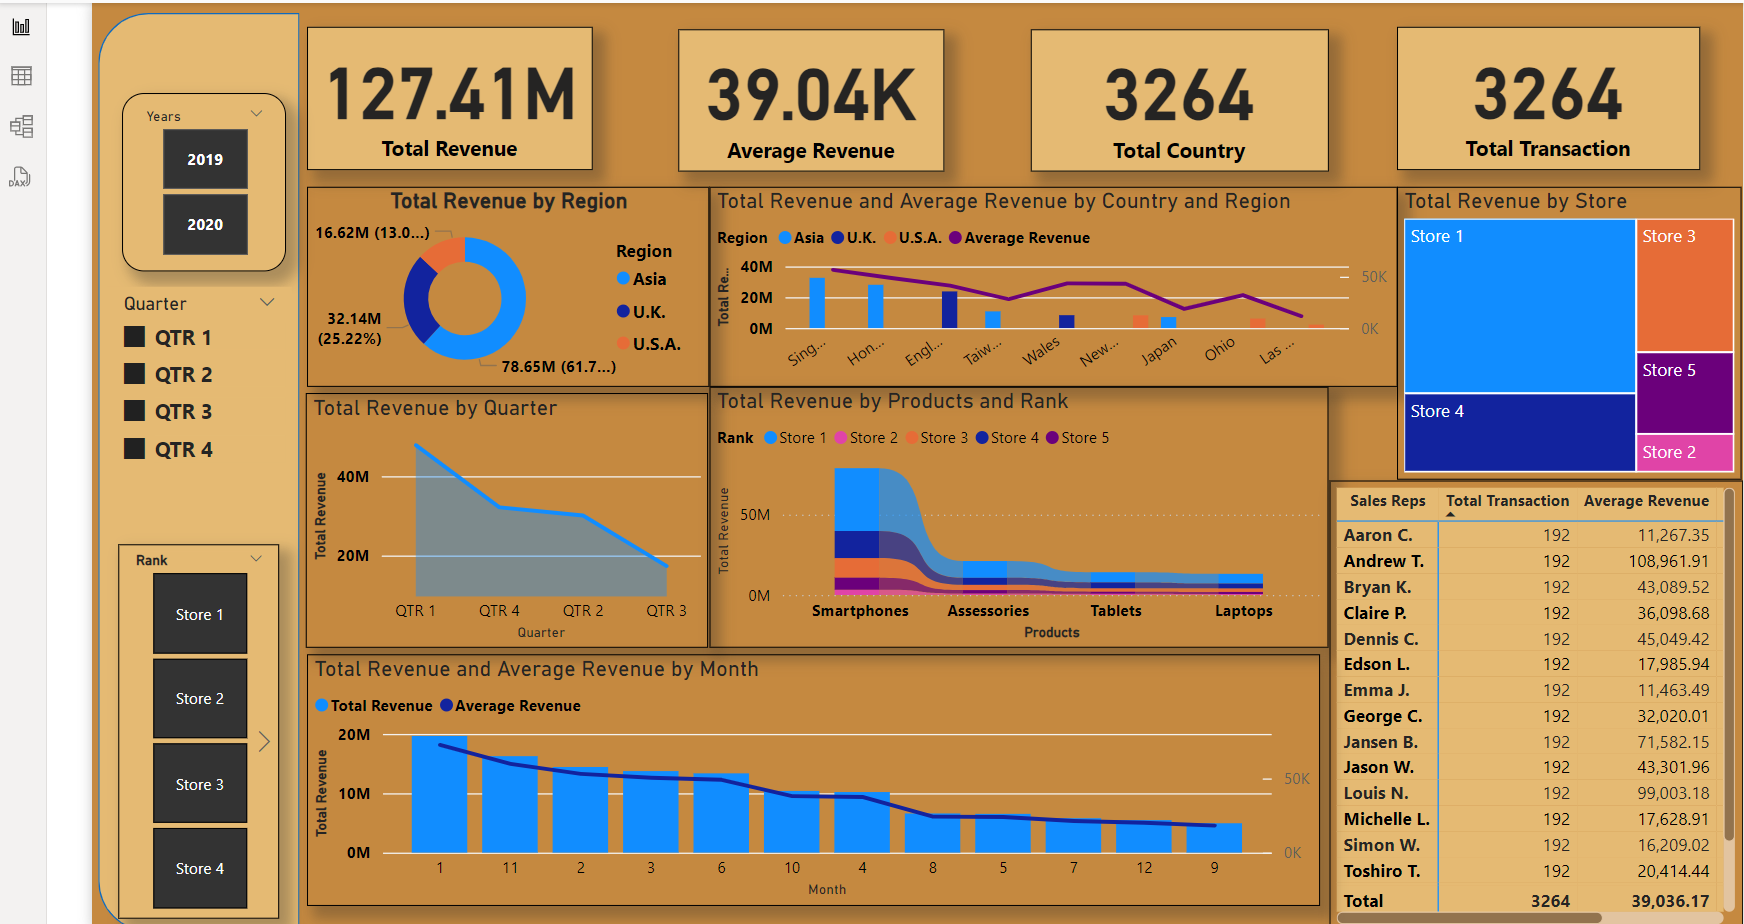

The dashboard page shown, as its layout file describes it:
{"tool":"powerbi","page":{"name":"Page 1","canvas":[1280,720],"ordinal":0},"visuals":[{"type":"shape","box":[4.7,7.7,156.1,712.3],"z":0},{"type":"card","fields":{"Values":["Measures(2).Total Transaction"]},"box":[1012.2,18.9,235.1,111.4],"z":1000},{"type":"card","fields":{"Values":["Measures(2).Total Country"]},"box":[728.1,20,231,110.2],"z":2000},{"type":"card","fields":{"Values":["Measures(2).Total Revenue"]},"box":[166.7,18.9,221.5,111.4],"z":3000},{"type":"card","fields":{"Values":["Measures(2).Average Revenue"]},"box":[455.1,20,206.2,110.2],"z":4000},{"type":"donutChart","fields":{"Y":["Measures(2).Total Revenue"],"Category":["Sheet1.Region"]},"box":[166.7,142.6,311.7,155],"z":5000},{"type":"lineClusteredColumnComboChart","fields":{"Category":["Sheet1.Country"],"Y":["Measures(2).Total Revenue"],"Y2":["Measures(2).Average Revenue"],"Series":["Sheet1.Region"]},"box":[478.4,142.6,533.8,155],"z":6000},{"type":"treemap","title":"Total Revenue by Store","fields":{"Group":["Sheet1.Rank"],"Values":["Measures(2).Total Revenue"]},"box":[1012.2,142.6,267.5,227.4],"z":7000},{"type":"areaChart","fields":{"Y":["Measures(2).Total Revenue"],"Category":["Sheet1.Quarter"]},"box":[166.2,302.3,312.3,198],"z":8000},{"type":"ribbonChart","fields":{"Category":["Sheet1.Products"],"Y":["Measures(2).Total Revenue"],"Series":["Sheet1.Rank"]},"box":[479,297.5,480.2,202.7],"z":9000},{"type":"pivotTable","fields":{"Rows":["Sheet1.Sales Reps"],"Values":["Measures(2).Total Transaction","Measures(2).Average Revenue","Measures(2).Total Revenue"]},"box":[959.2,370,320.5,350],"z":10000},{"type":"lineClusteredColumnComboChart","fields":{"Y":["Measures(2).Total Revenue"],"Y2":["Measures(2).Average Revenue"],"Category":["Sheet1.Month"]},"box":[166.7,504.9,786,195],"z":11000},{"type":"slicer","fields":{"Values":["Sheet1.Years"]},"box":[23,70.1,127.3,138.5],"z":12000},{"type":"slicer","fields":{"Values":["Sheet1.Rank"]},"box":[20.6,419.5,124.9,290.5],"z":13000},{"type":"slicer","fields":{"Values":["Sheet1.Quarter"]},"box":[11.2,220.4,143.2,178.5],"z":14000}]}

Visuals, with their boxes in screenshot pixels (x1, y1, x2, y2):
shape: <box>88,0,292,923</box>
card - Measures(2).Total Transaction: <box>1407,11,1715,157</box>
card - Measures(2).Total Country: <box>1035,13,1337,157</box>
card - Measures(2).Total Revenue: <box>300,11,590,157</box>
card - Measures(2).Average Revenue: <box>678,13,948,157</box>
donutChart - Measures(2).Total Revenue x Sheet1.Region: <box>300,173,708,376</box>
lineClusteredColumnComboChart - Sheet1.Country x Measures(2).Total Revenue: <box>708,173,1407,376</box>
"Total Revenue by Store" treemap: <box>1407,173,1743,471</box>
areaChart - Measures(2).Total Revenue x Sheet1.Quarter: <box>299,382,708,641</box>
ribbonChart - Sheet1.Products x Measures(2).Total Revenue: <box>709,376,1338,641</box>
pivotTable - Sheet1.Sales Reps x Measures(2).Total Transaction: <box>1338,471,1743,923</box>
lineClusteredColumnComboChart - Measures(2).Total Revenue x Measures(2).Average Revenue: <box>300,647,1329,903</box>
slicer - Sheet1.Years: <box>112,78,279,259</box>
slicer - Sheet1.Rank: <box>109,536,272,916</box>
slicer - Sheet1.Quarter: <box>96,275,284,509</box>
